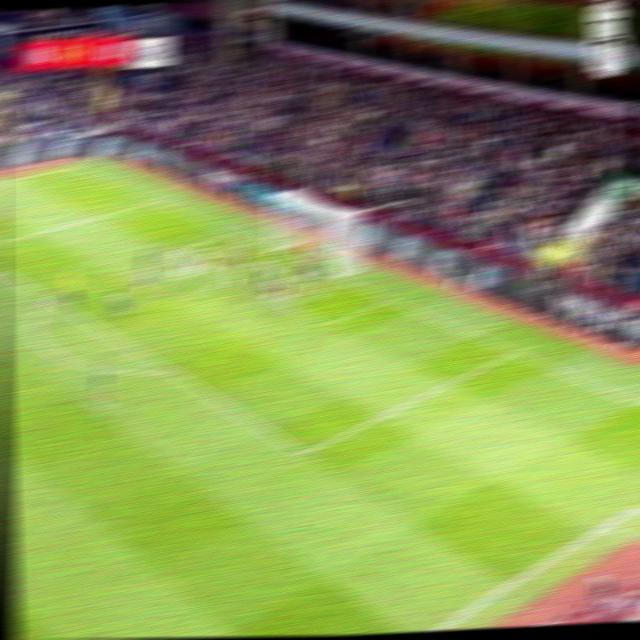bigarea_bottom_inner: (290, 438, 316, 466)
bigarea_bottom_outter: (502, 342, 526, 361)
bigarea_top_outter: (142, 192, 165, 207)
bottom_arc_area_intersection: (157, 359, 182, 381)
corner: (61, 158, 84, 172)
smallarea_bottom_inner: (316, 312, 341, 334)
smallarea_bottom_outter: (376, 288, 400, 307)
smallarea_top_inner: (158, 243, 179, 260)
smallarea_top_outter: (219, 223, 240, 240)
top_arc_area_intersection: (36, 288, 60, 309)
